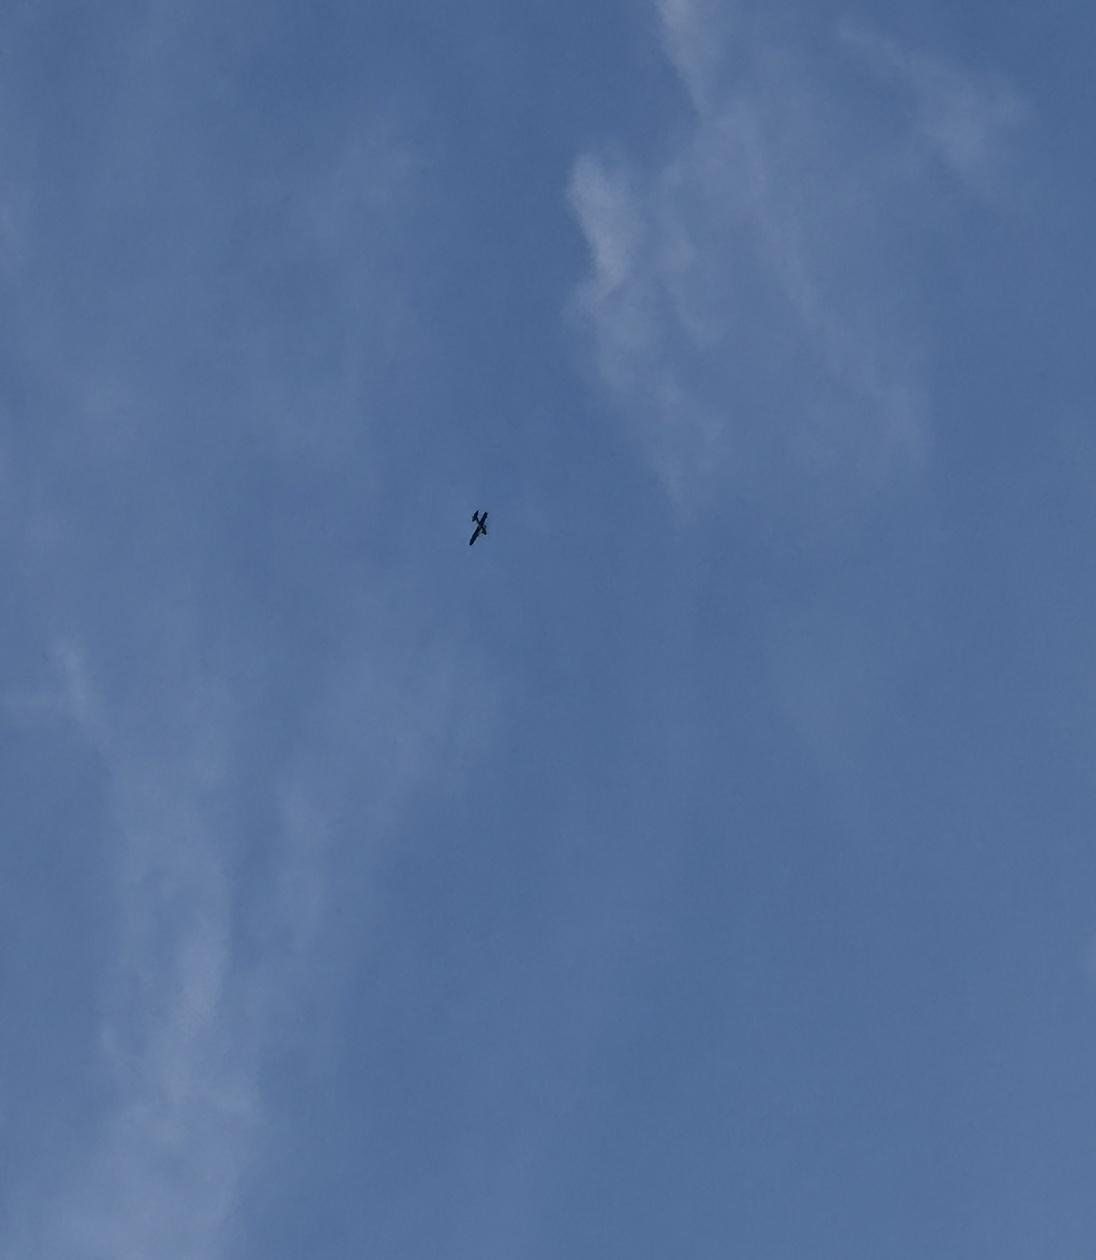Plane: (450, 490, 508, 566)
